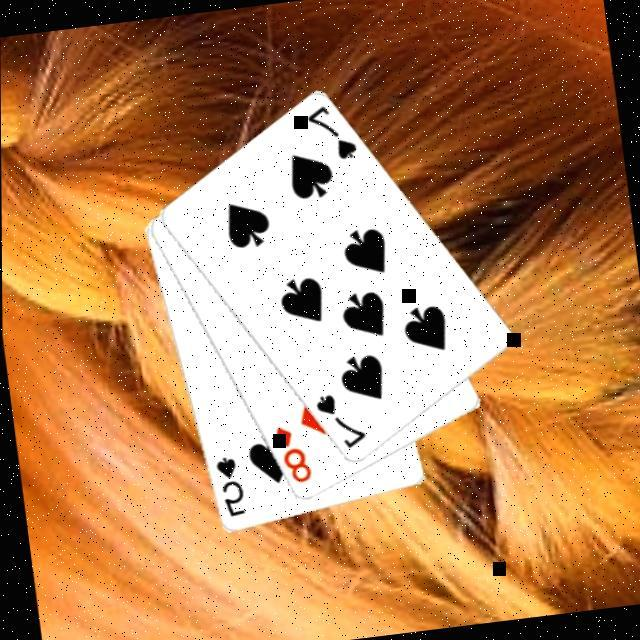5S: (209, 455, 247, 524)
7S: (309, 389, 368, 457), (301, 101, 360, 169)
8D: (266, 422, 314, 490)
